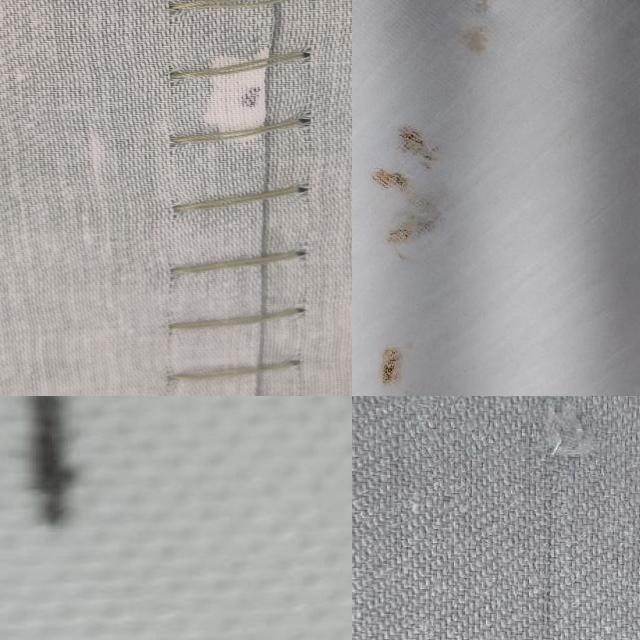Hole: (352, 0, 533, 396)
Stitch: (146, 0, 327, 396)
Thread_other: (453, 396, 640, 640), (0, 396, 238, 560)
